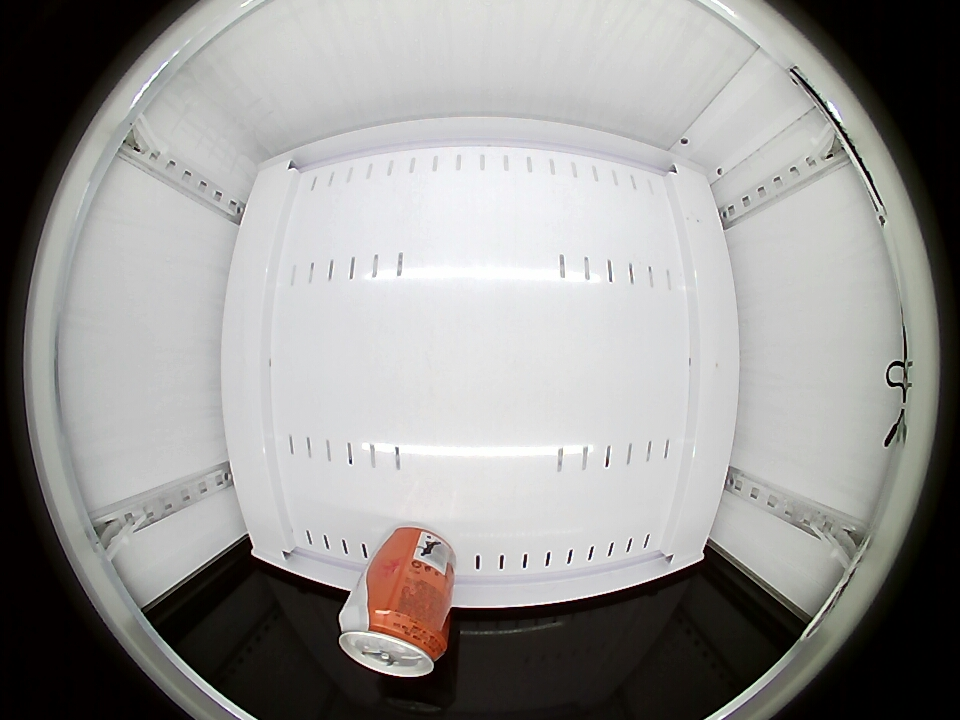jianlibao: (338, 602, 446, 678)
